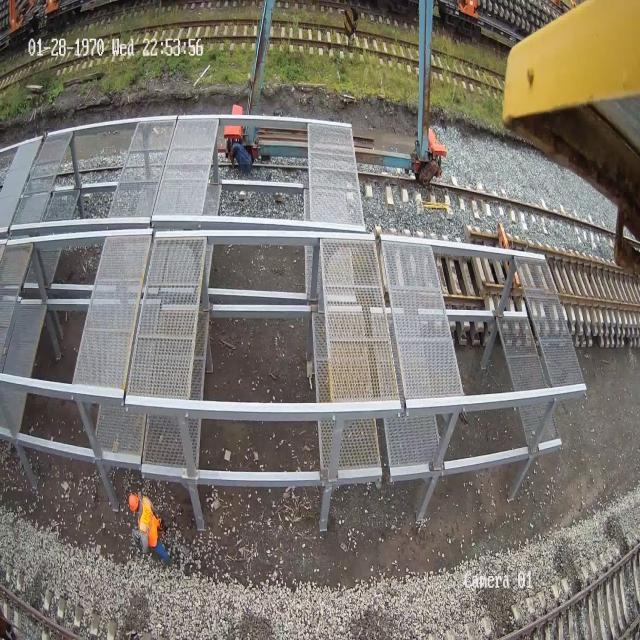Helmet: (128, 492, 138, 511)
Person: (128, 492, 172, 565)
